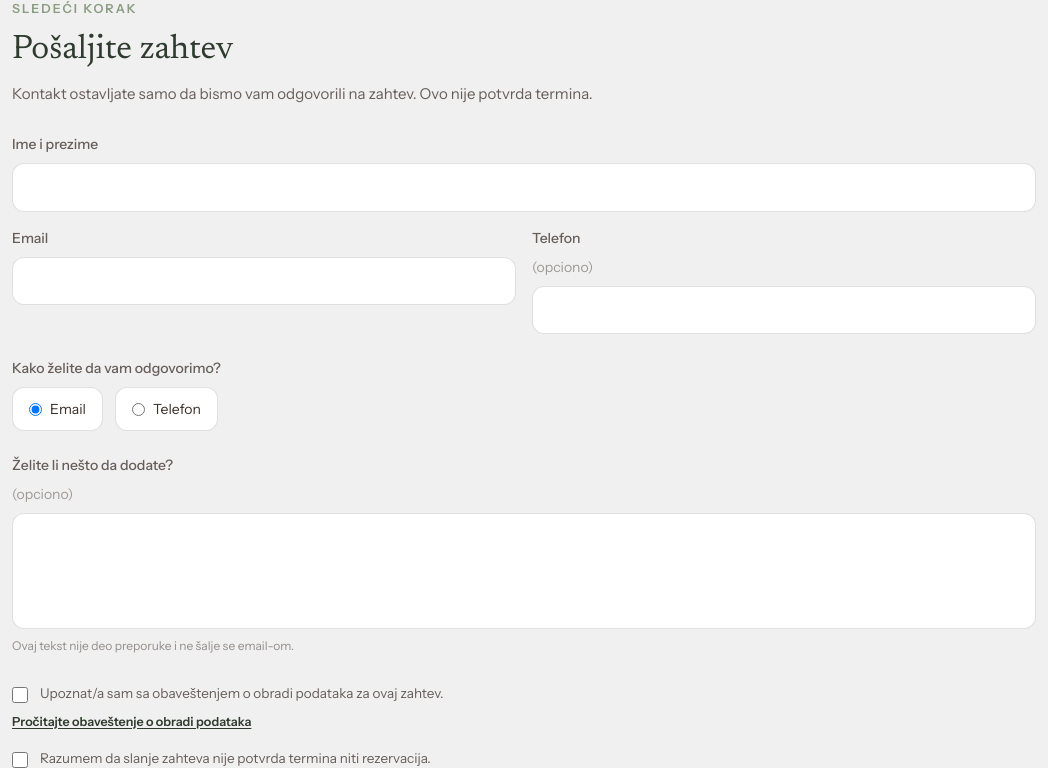
Scenario: IntakeRequestForm › shows immediate-support copy and switches a submitted safety signal to team review
The image size is (1048, 768).
Type "Petar Petrović" into the field labelled "Ime i prezime" at (524, 188), box x1=12 y1=163 x2=1036 y2=212
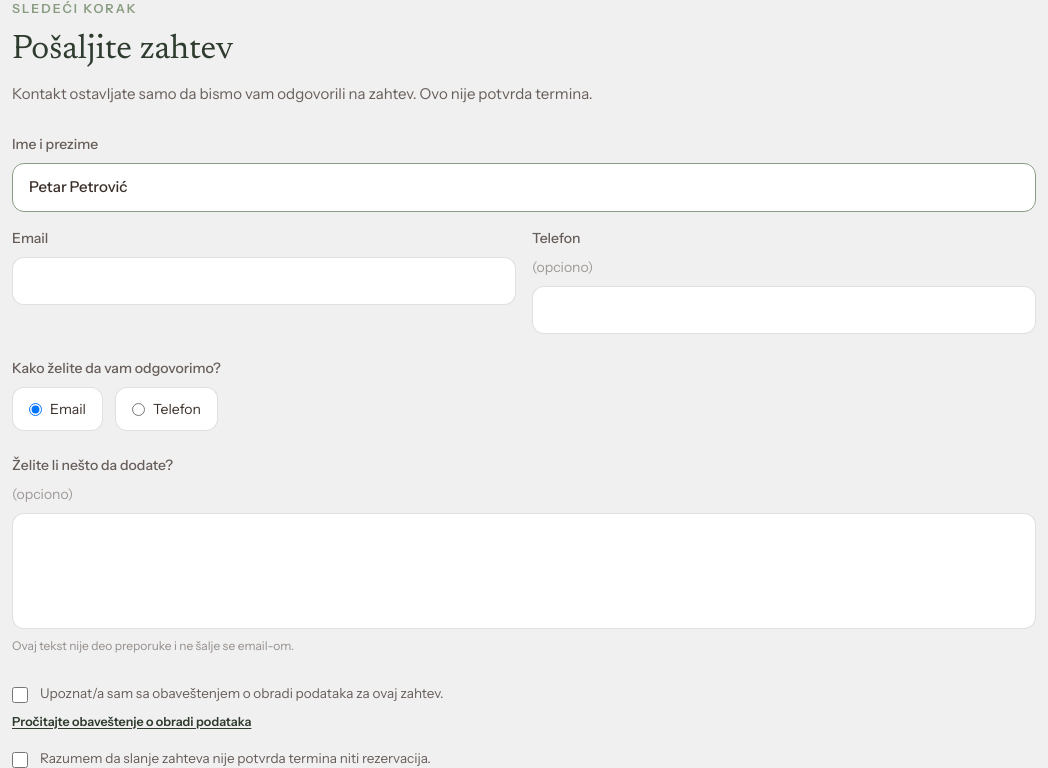
Type "petar@example.com" into the field labelled "Email" at (264, 281), box x1=12 y1=257 x2=516 y2=305
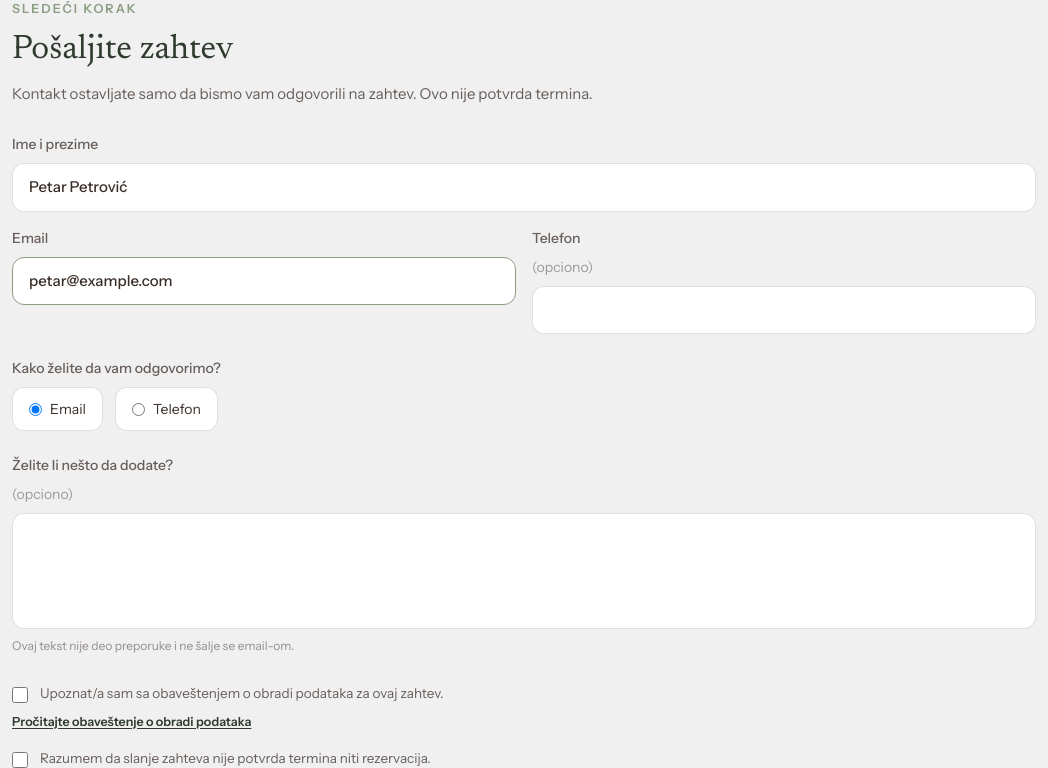
Type "Trenutno sam u opasnosti." into the text box labelled "Želite li nešto da dodate" at (524, 571), box x1=12 y1=513 x2=1036 y2=629
(page scrolled)
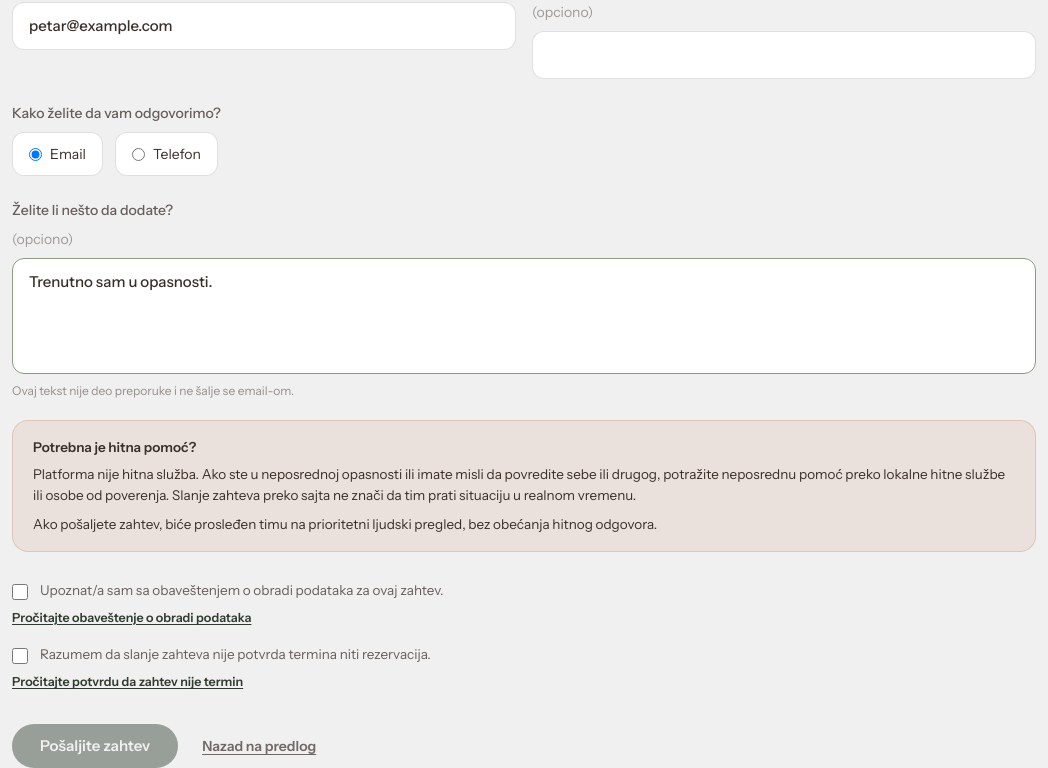
Result: the message shows "Platforma nije hitna služba" at x1=33 y1=466 x2=1005 y2=503
Click the checkbox labelled "obaveštenjem o obradi podataka" at (20, 592), box x1=12 y1=584 x2=28 y2=600
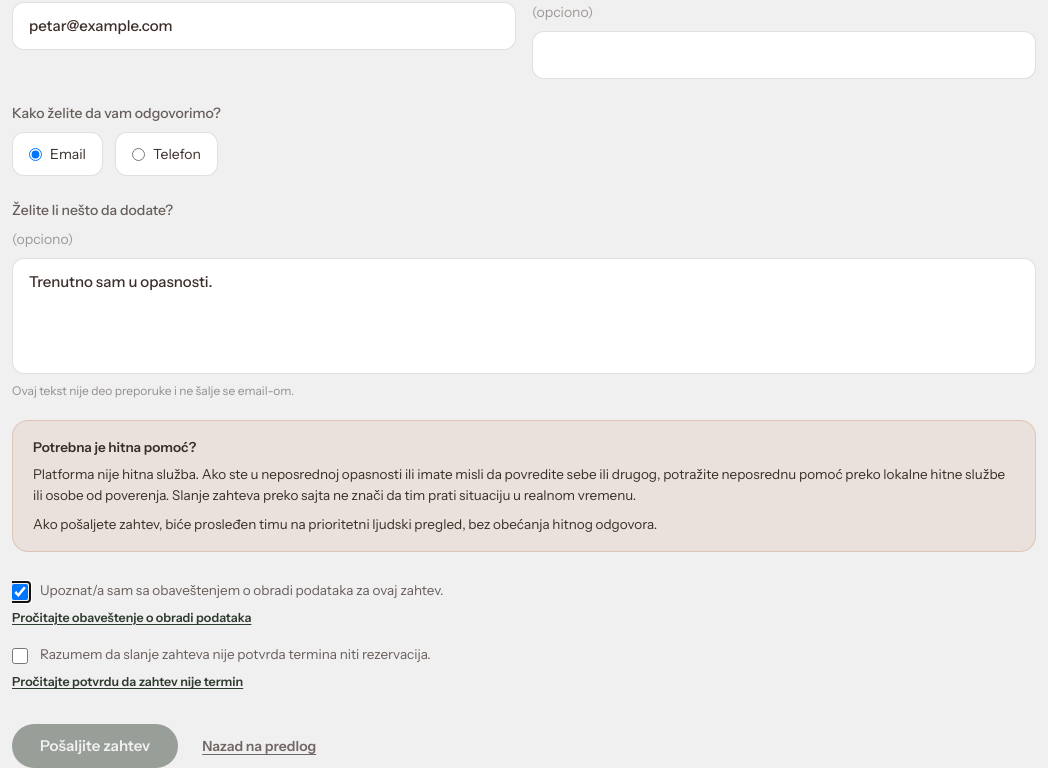
Click the checkbox labelled "nije potvrda termina" at (20, 656), box x1=12 y1=648 x2=28 y2=664
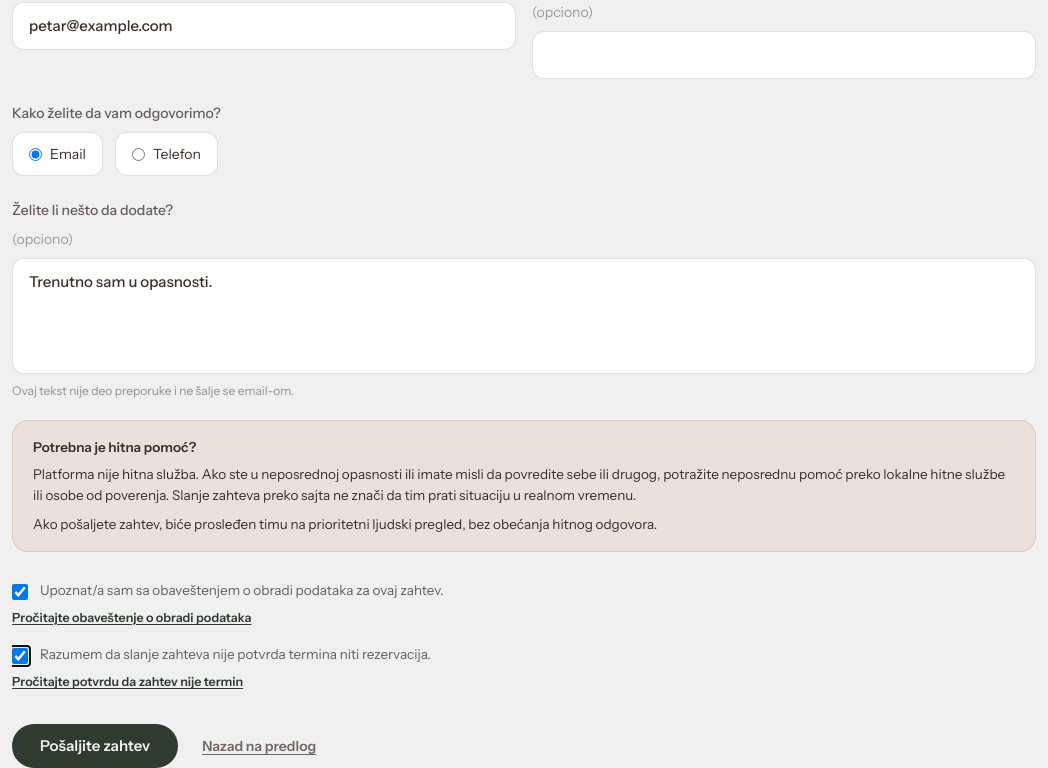
Click the button "Pošaljite zahtev" at (95, 746), box x1=12 y1=724 x2=178 y2=767
(page scrolled)
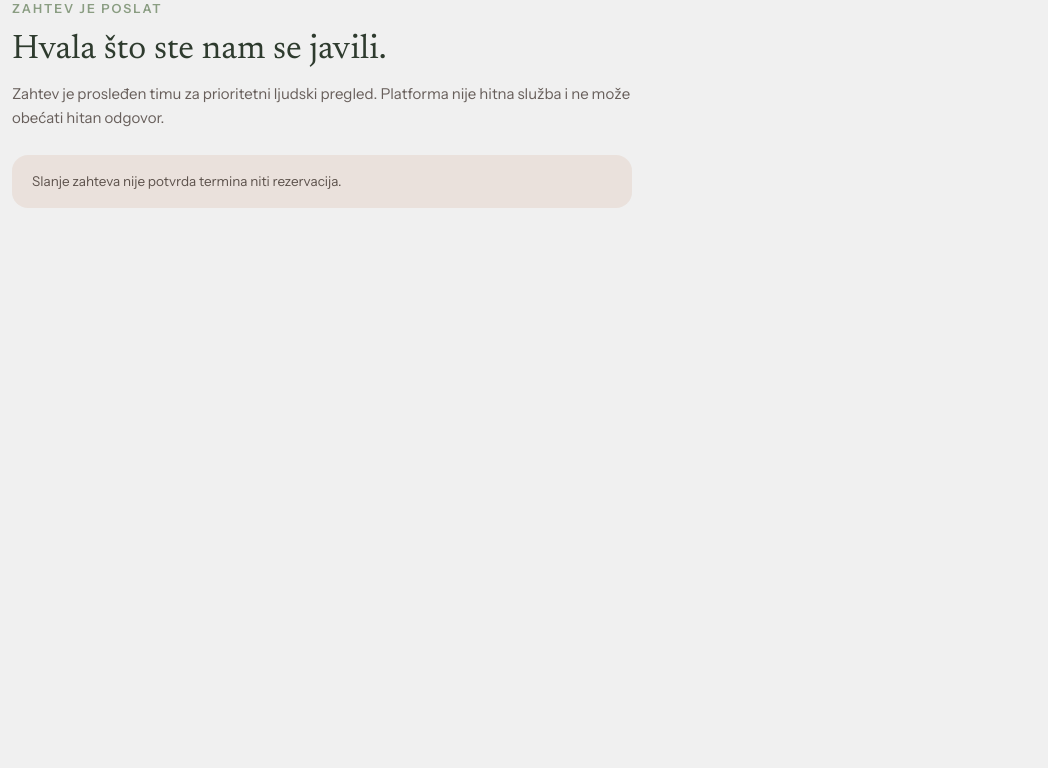
Result: the text "prioritetni ljudski pregled" is shown at x1=12 y1=84 x2=630 y2=127
